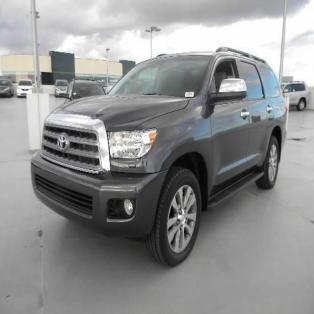Auto: (30, 47, 288, 264)
